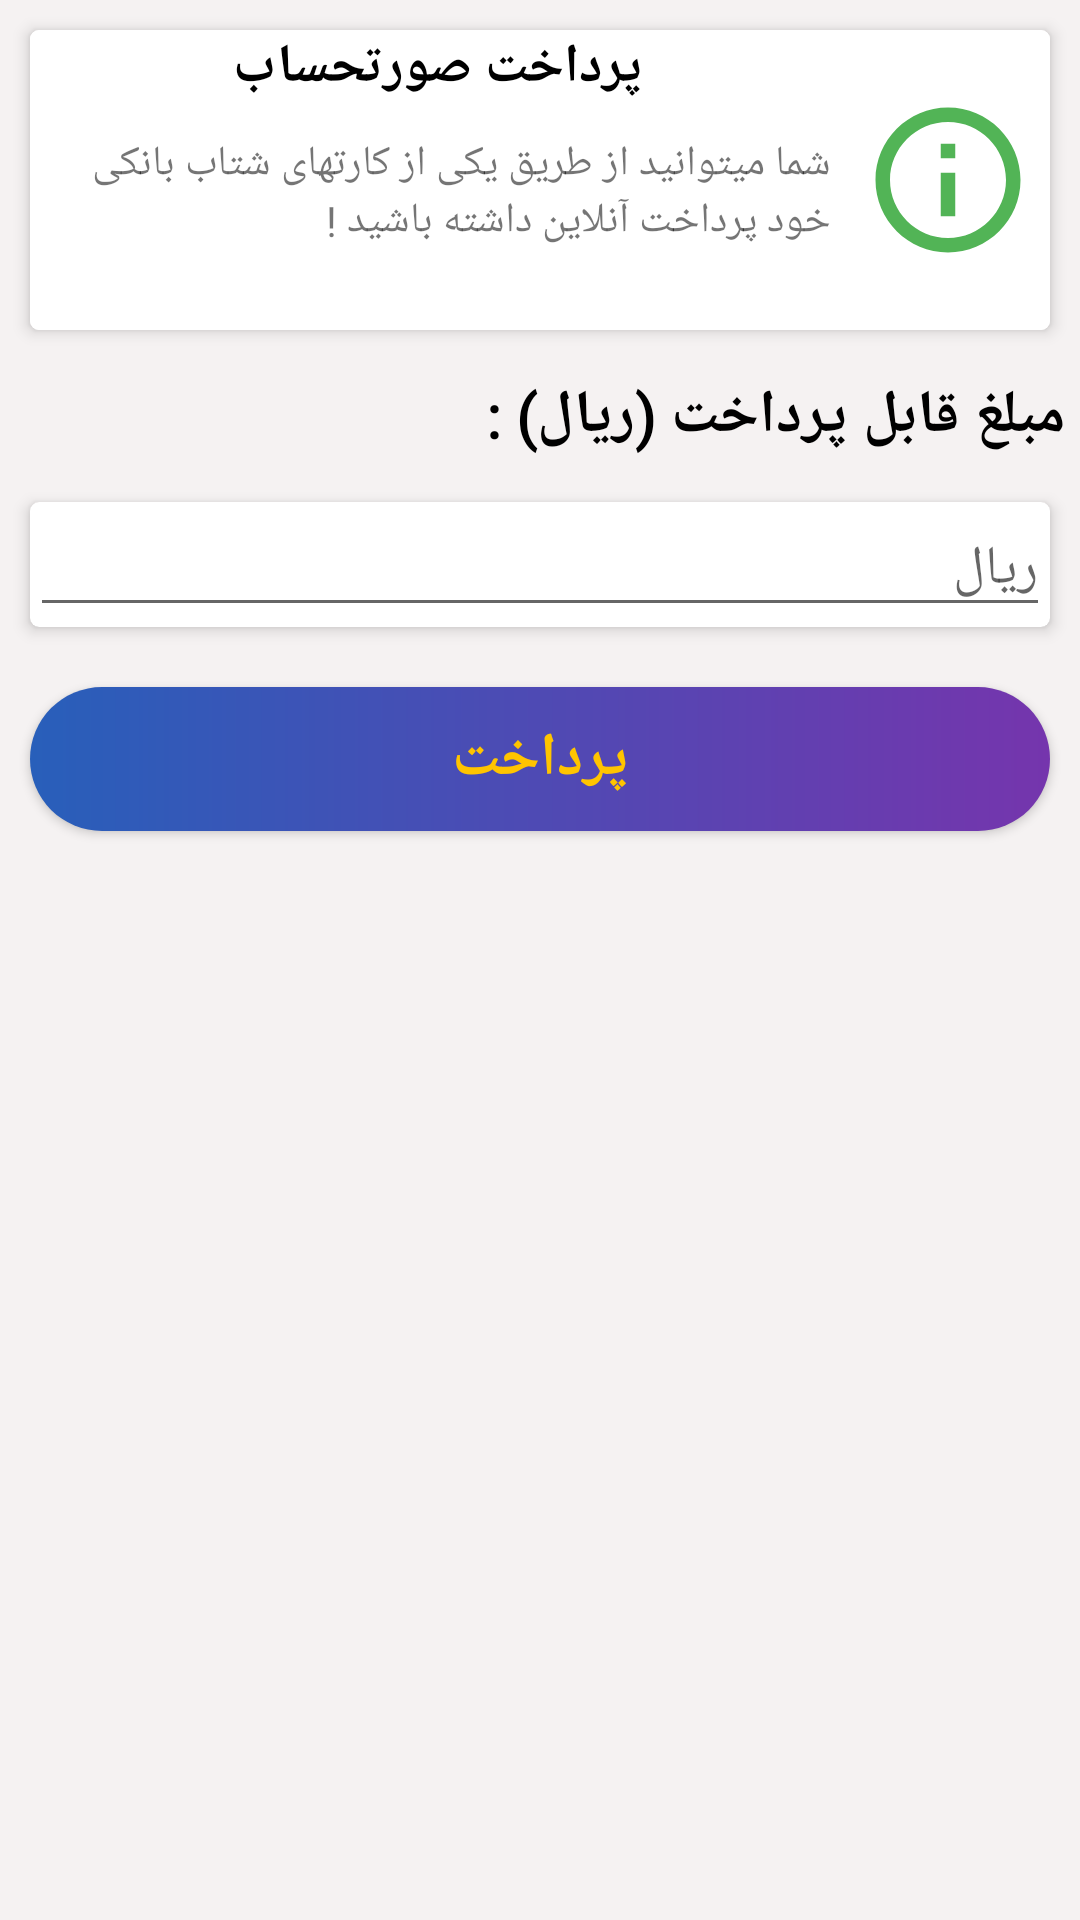

Named icons in this screenshot (1080w x 1920h) and their centers, (x,y):
info: (948,180)
